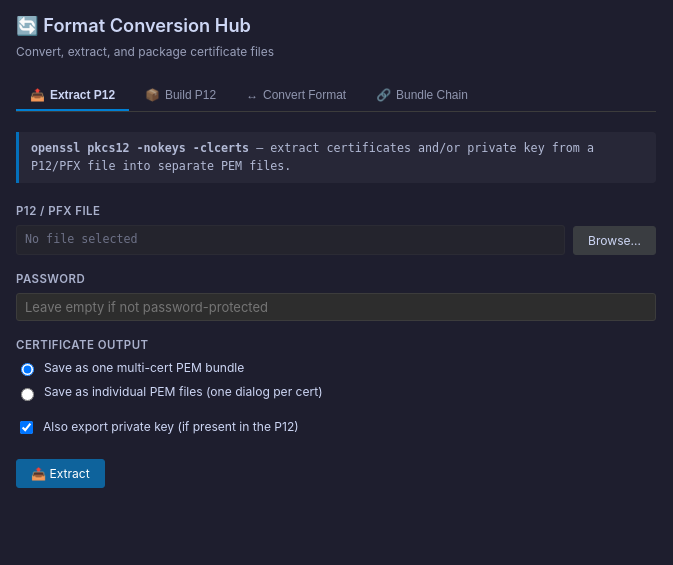
ConvertHub.svelte › clears status when switching mode after an error
Click the button "📤 Extract": x=60, y=473 [16,459,105,488]
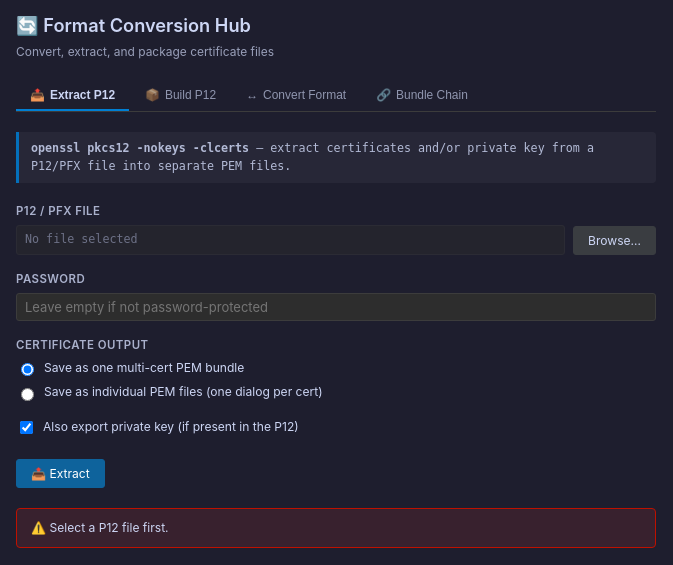
Expected: the text "⚠️ Select a P12 file first." is shown, [16,508,656,548]
Click the text "Build P12": x=191, y=95 [165,88,216,102]
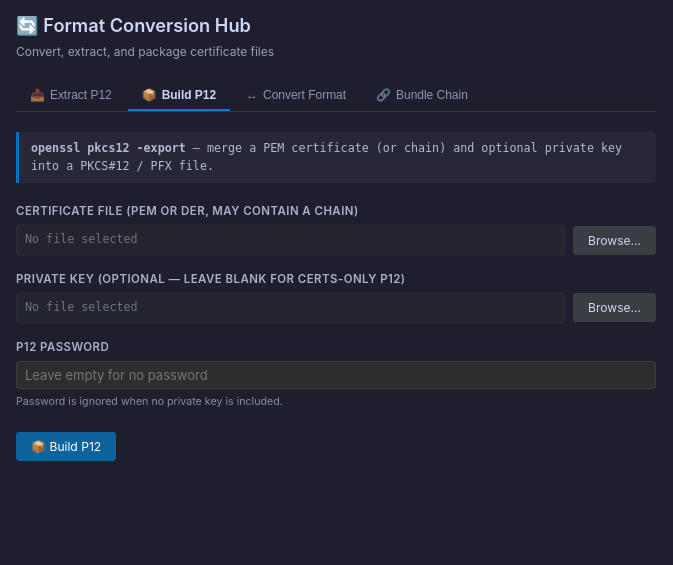
Expected: the text "⚠️ Select a P12 file first." is gone
